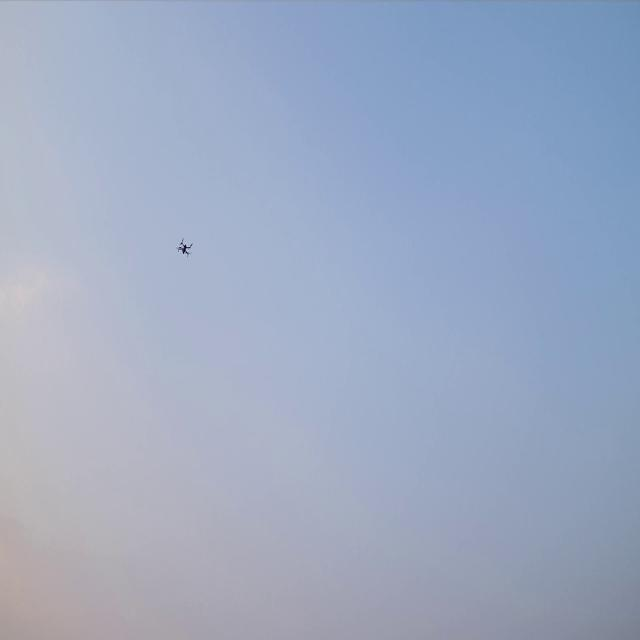UAV: (174, 237, 193, 258)
